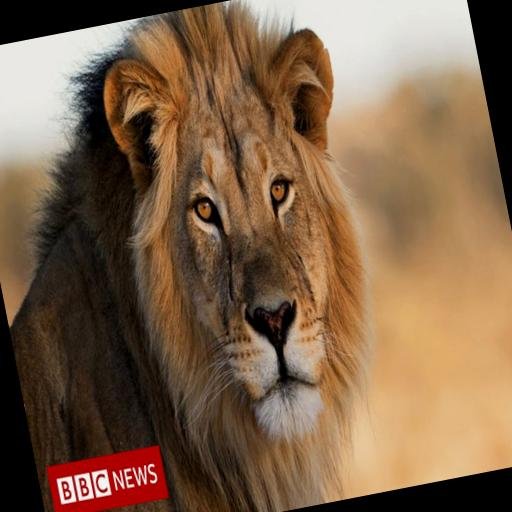lions: (0, 0, 482, 512)
